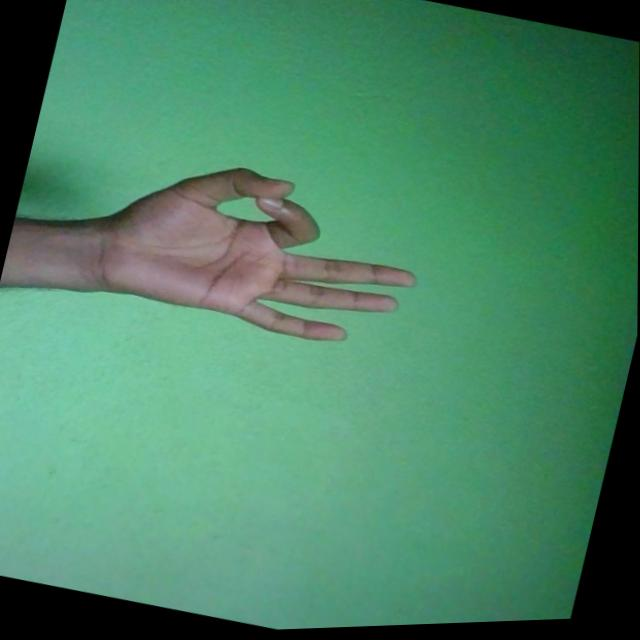Ok: (80, 133, 437, 369)
